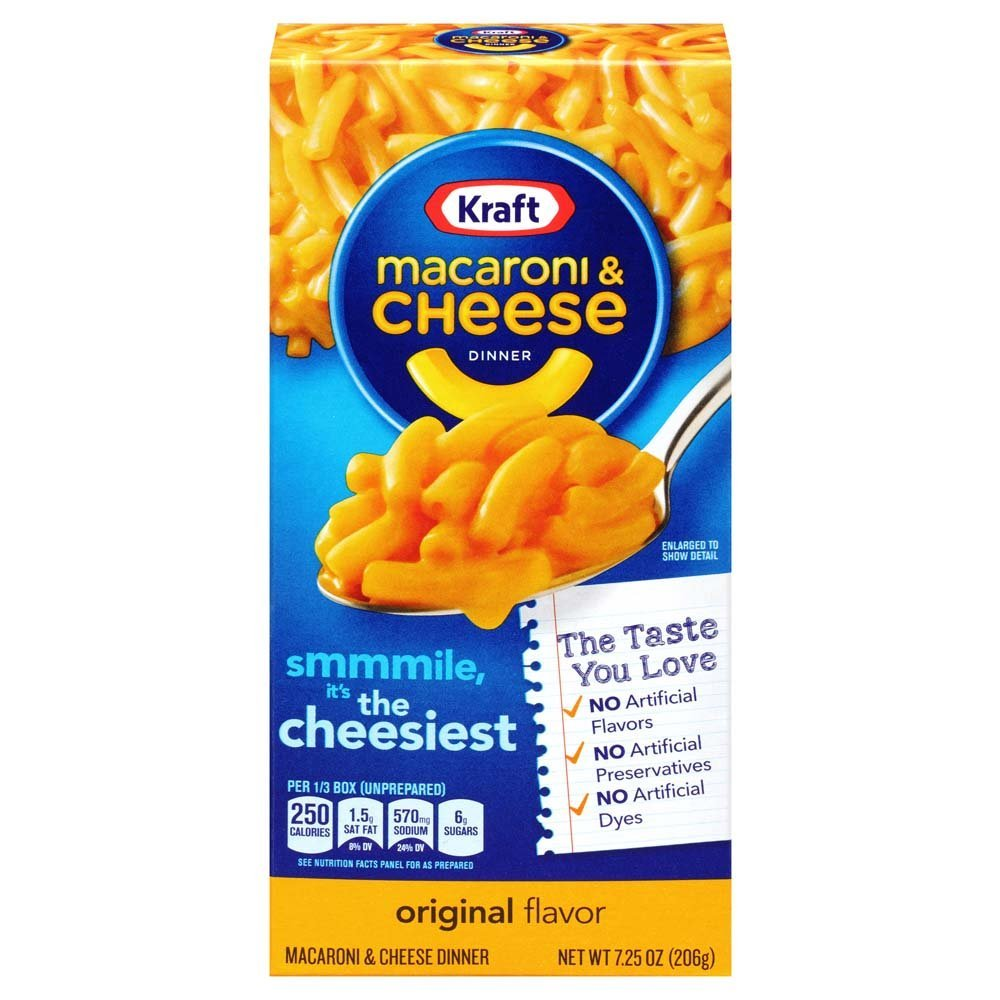macncheese: (243, 8, 770, 1000), (329, 420, 663, 610)
